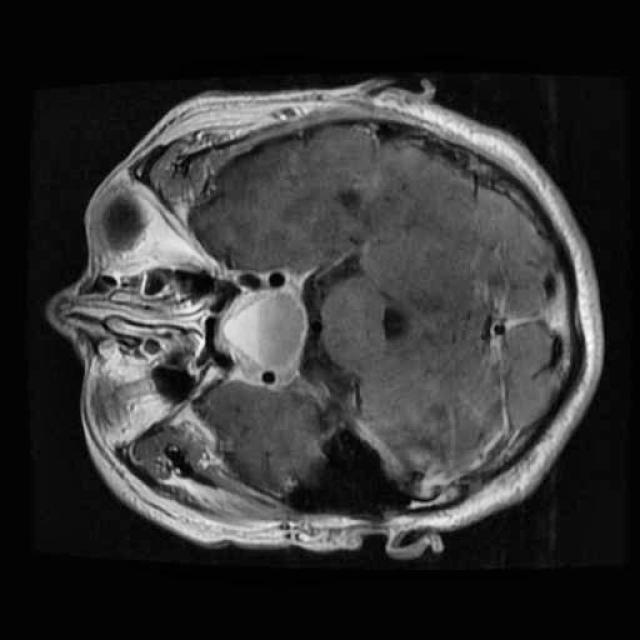Tumor: (210, 272, 326, 391)
